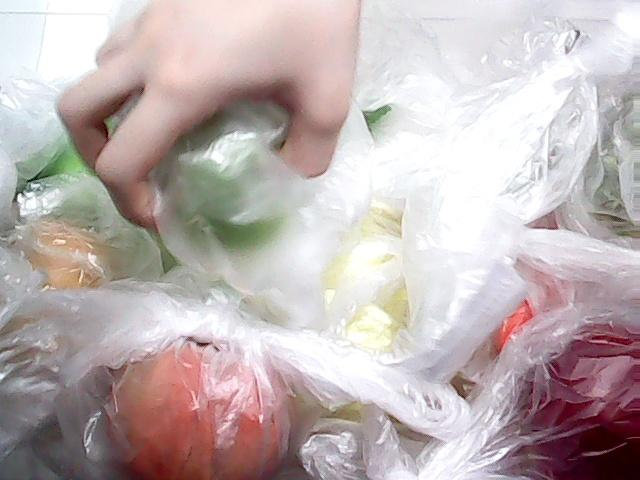apple: (496, 300, 640, 480)
cabbage: (7, 96, 181, 276), (554, 59, 640, 253)
carrot: (493, 219, 575, 359)
napa cabbage: (179, 187, 529, 432)
peach: (109, 332, 294, 480)
potato: (1, 221, 128, 407)
